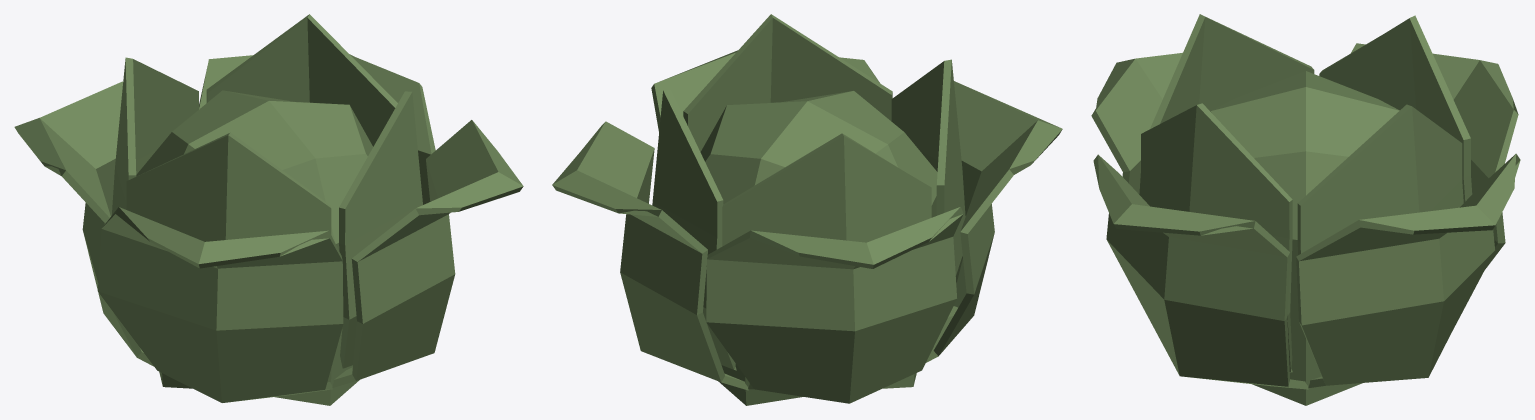
The model's file is food-Lettuce_Whole.glb.
The picture shows the model from 3 angles, left to right: view 1: azimuth 30°, elevation 25°; view 2: azimuth 150°, elevation 25°; view 3: azimuth 270°, elevation 25°; orthographic projection. The views are drawn at different scales.
Parts seen in each view (by area): view 1: Lettuce_Whole; view 2: Lettuce_Whole; view 3: Lettuce_Whole.
Boxes of the visible parts, box(x1,y1,x2,y2) form: Lettuce_Whole: box(14, 14, 523, 405); Lettuce_Whole: box(552, 14, 1062, 405); Lettuce_Whole: box(1091, 14, 1520, 405).
Size of the model in its own units: 1.66 by 1.37 by 1.66.
